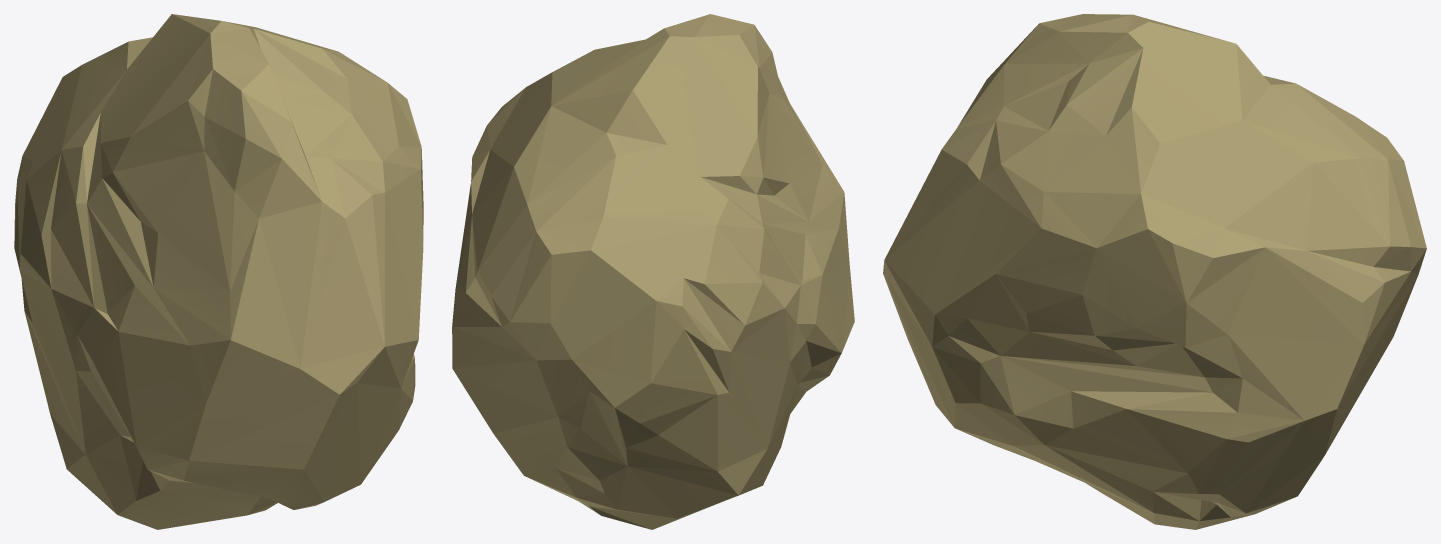
File: SM_rock_07.fbx
The picture shows the model from 3 angles, left to right: view 1: azimuth 30°, elevation 25°; view 2: azimuth 150°, elevation 25°; view 3: azimuth 270°, elevation 25°; orthographic projection. The views are drawn at different scales.
Parts seen in each view (by area): view 1: rock_07; view 2: rock_07; view 3: rock_07.
Part boxes in pixels (x1,y1,x2,y2): rock_07: (14, 14, 423, 529); rock_07: (452, 14, 854, 529); rock_07: (883, 14, 1426, 529).
Bounding box in the file's own units: 323 × 467 × 459.
